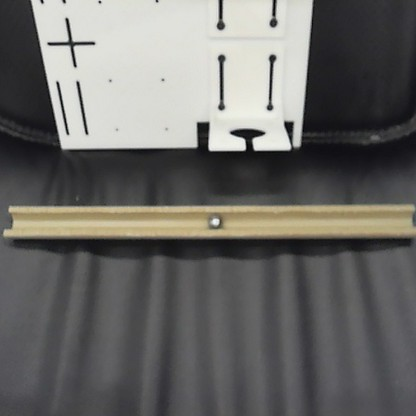ironball: (203, 210, 224, 232)
